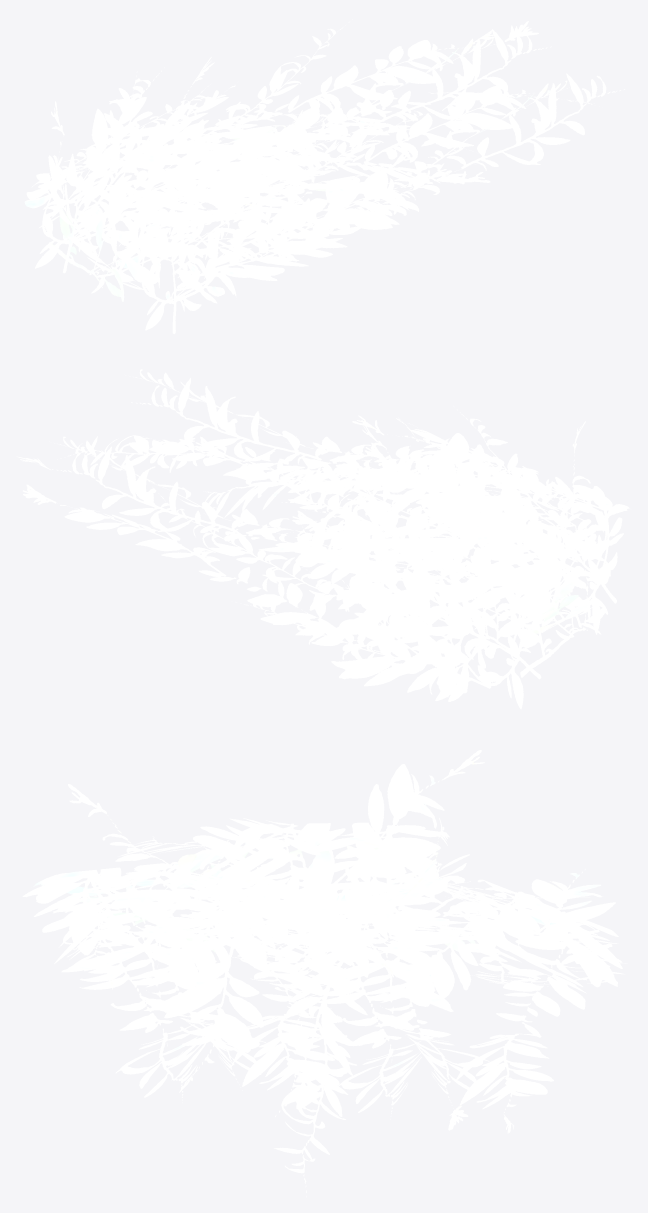
The picture shows the model from 3 angles, top to bottom: view 1: azimuth 30°, elevation 25°; view 2: azimuth 150°, elevation 25°; view 3: azimuth 270°, elevation 25°; orthographic projection. The views are drawn at different scales.
Parts seen in each view (by area): view 1: SM_BM_Climbing_A_03_LOD0; view 2: SM_BM_Climbing_A_03_LOD0; view 3: SM_BM_Climbing_A_03_LOD0.
Part boxes in pixels (bbox=[...]): SM_BM_Climbing_A_03_LOD0: bbox=[24, 19, 624, 333]; SM_BM_Climbing_A_03_LOD0: bbox=[16, 369, 629, 709]; SM_BM_Climbing_A_03_LOD0: bbox=[22, 750, 627, 1197].
Size of the model in its own units: 2.25 by 0.7506 by 1.59.
1 material, 1 textured.
